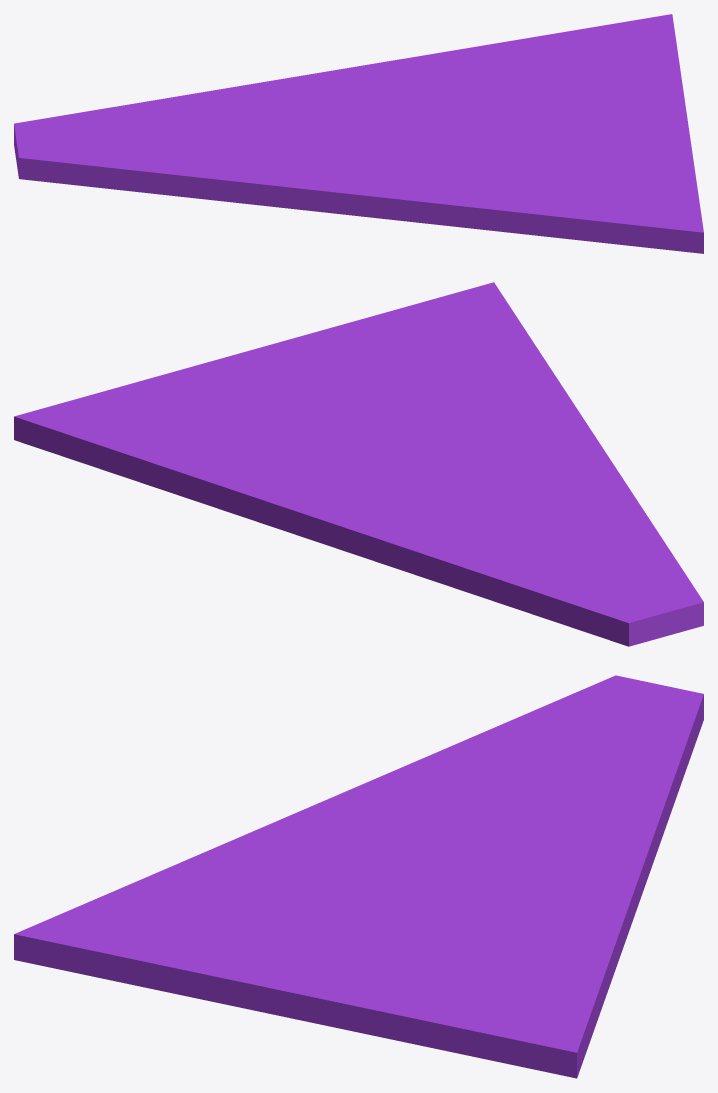
Rendered from StairsStep_25.fbx.
3 views of the same model, one above another, from view 1: azimuth 30°, elevation 25°; view 2: azimuth 150°, elevation 25°; view 3: azimuth 270°, elevation 25° (orthographic). The views are drawn at different scales.
Parts seen in each view (by area): view 1: StairsStep_25; view 2: StairsStep_25; view 3: StairsStep_25.
Boxes of the visible parts, x1,y1,x2,y2 form: StairsStep_25: (14,14,703,253); StairsStep_25: (14,282,703,646); StairsStep_25: (14,675,703,1078).
Bounding box in the file's own units: 563 × 17.94 × 435.
